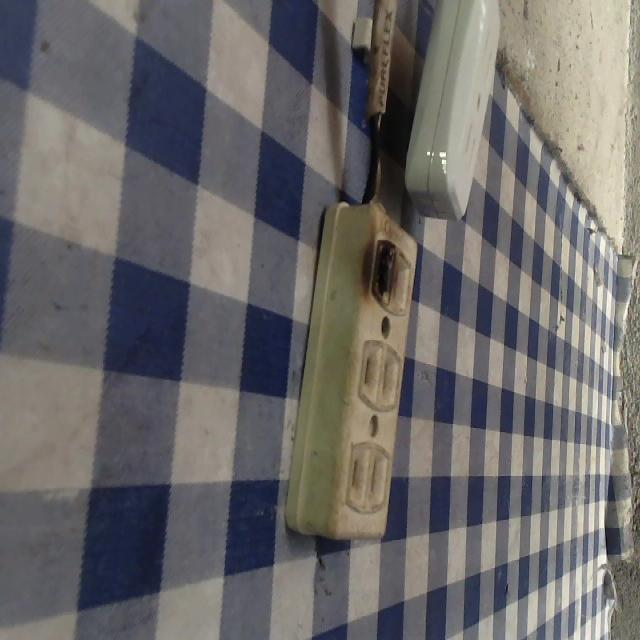-: (361, 233, 400, 316)
